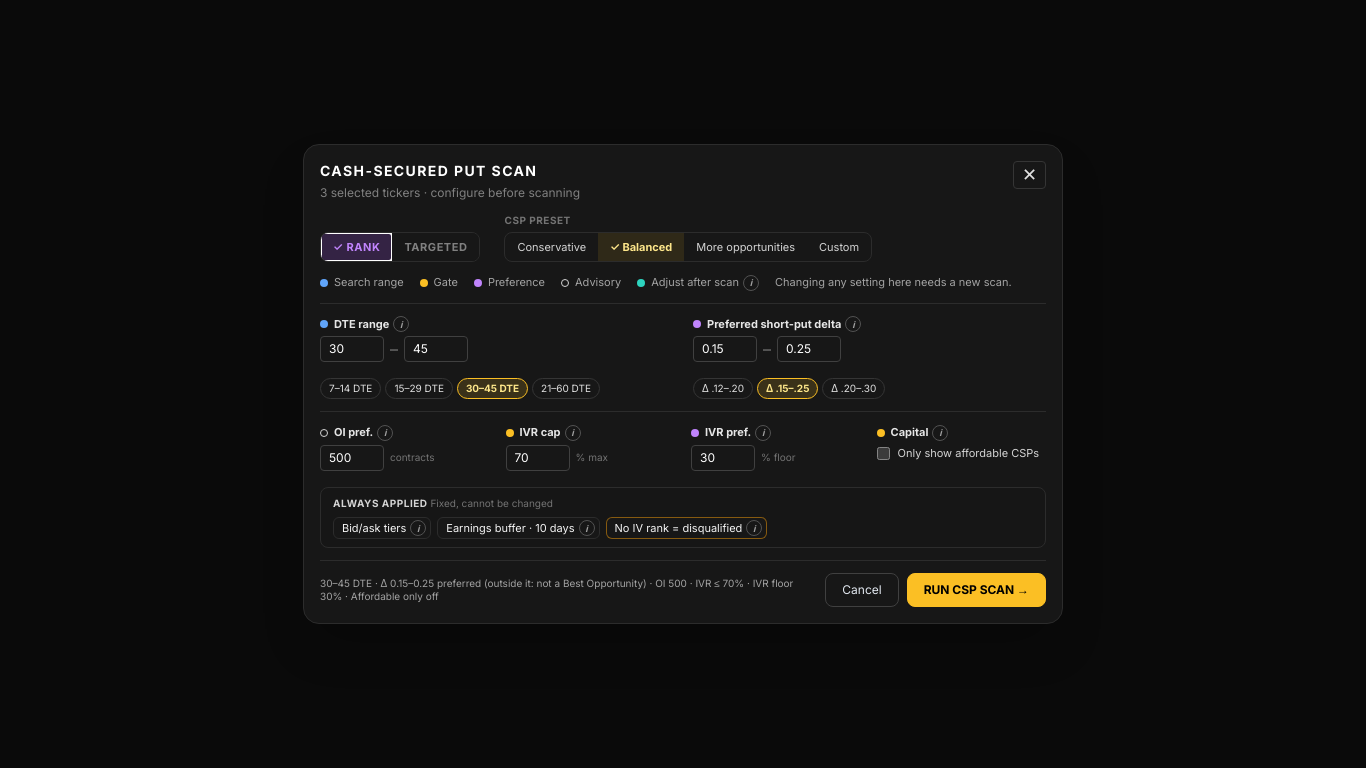
it: quick-select pills follow the shared pill and input contract › a range pill sets both ends and flips the preset to Custom
Click the button "21–60 DTE" at (566, 389), box [532,378,600,399]
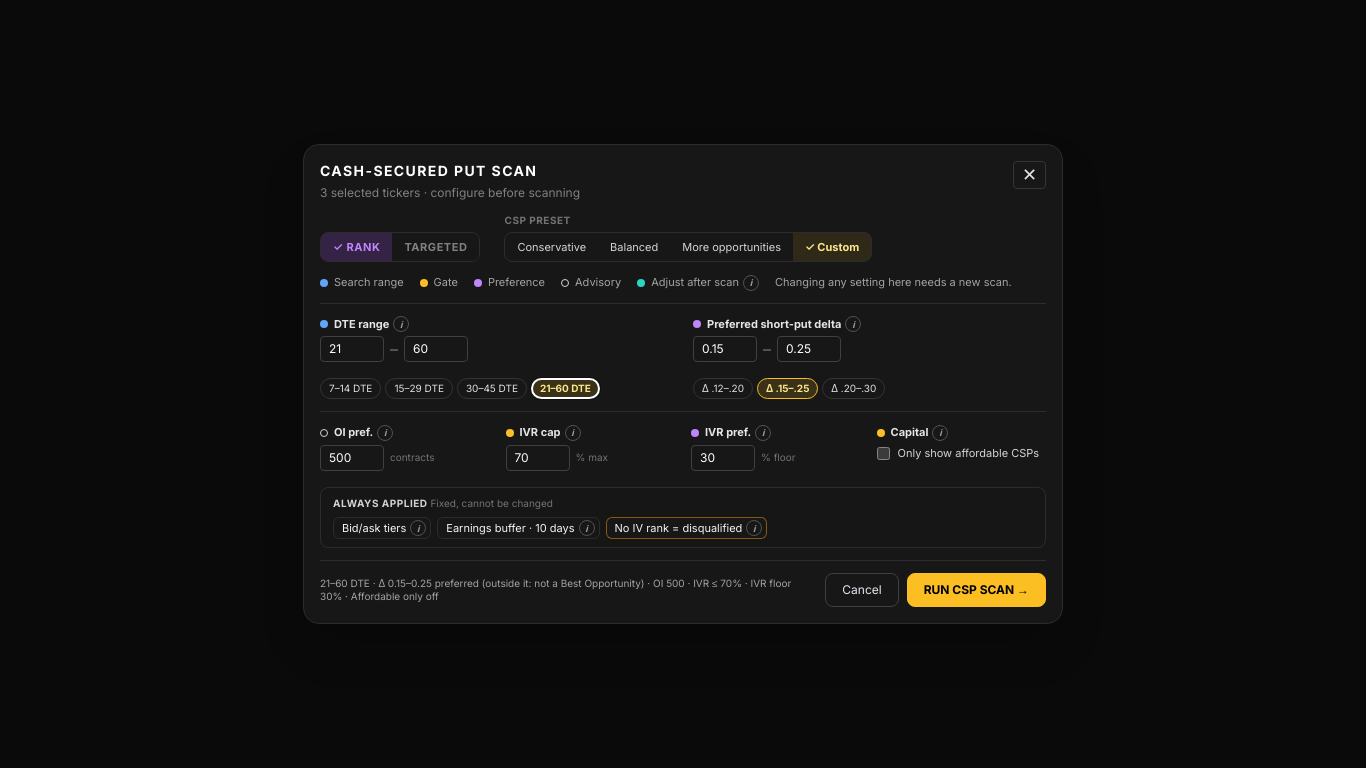
Expected: the field named "Min DTE" holds "21", [320,336,384,362]
Expected: the field named "Max DTE" holds "60", [404,336,468,362]
